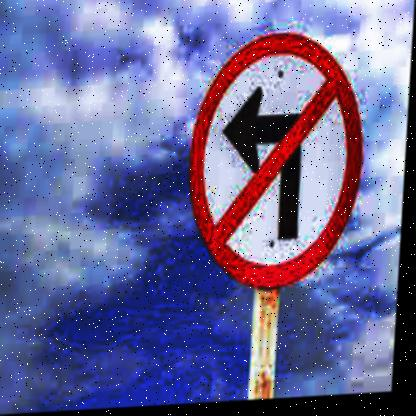No left turn: (184, 24, 366, 290)
